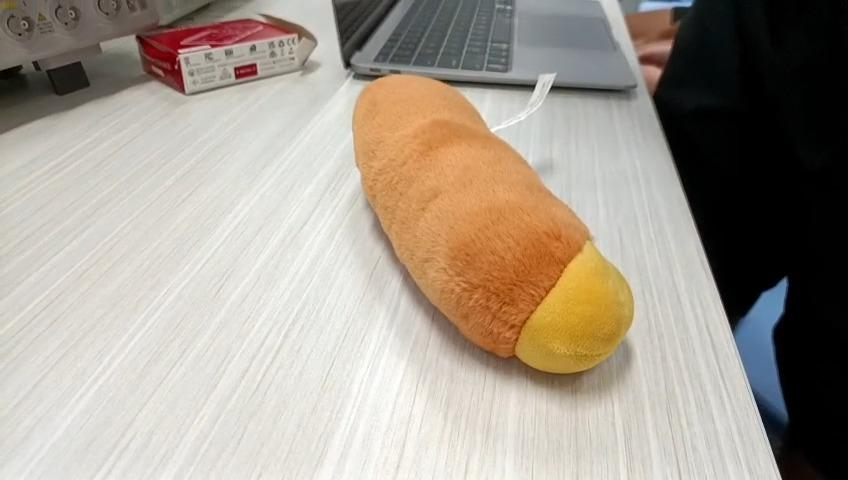hotdog: (353, 74, 636, 374)
